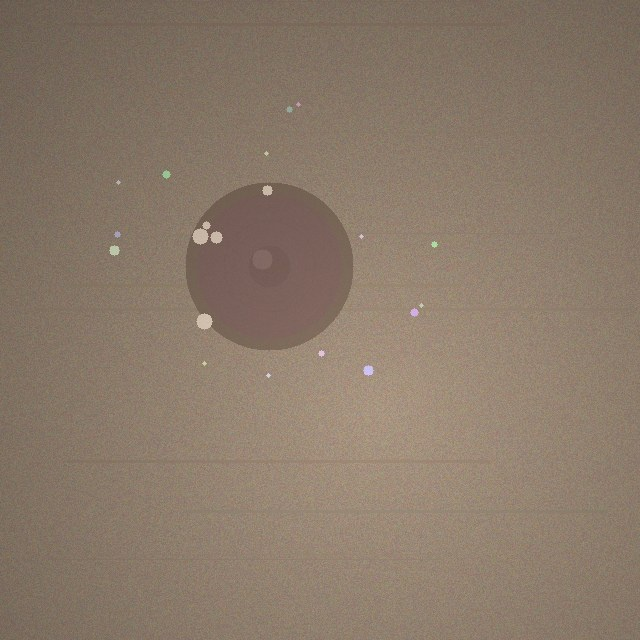overburn: (185, 182, 353, 350)
